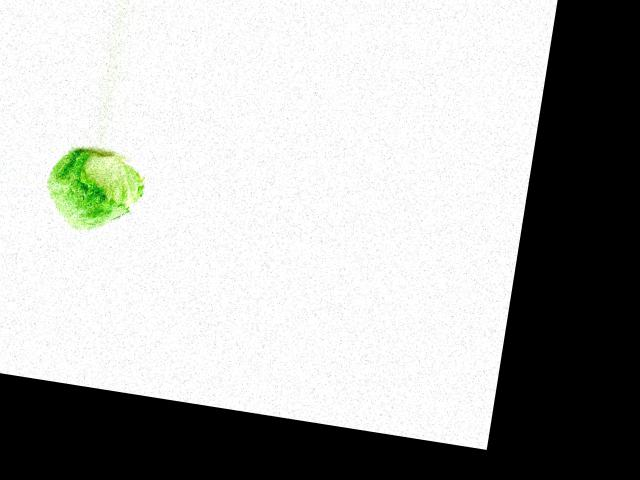lettuce: (37, 144, 148, 241)
